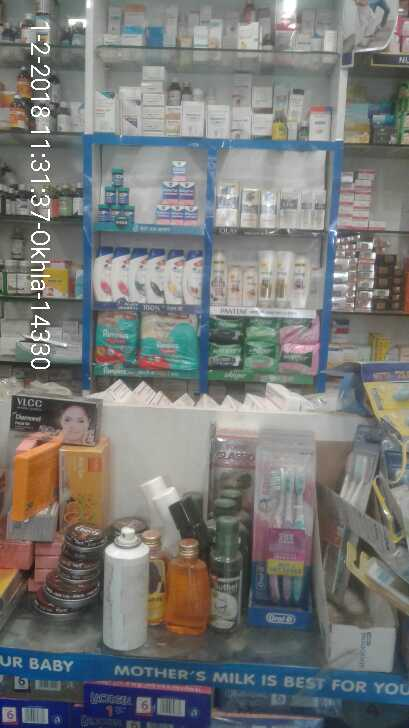oralcare: (246, 429, 327, 630)
vicks: (154, 154, 199, 224), (98, 163, 139, 224)
